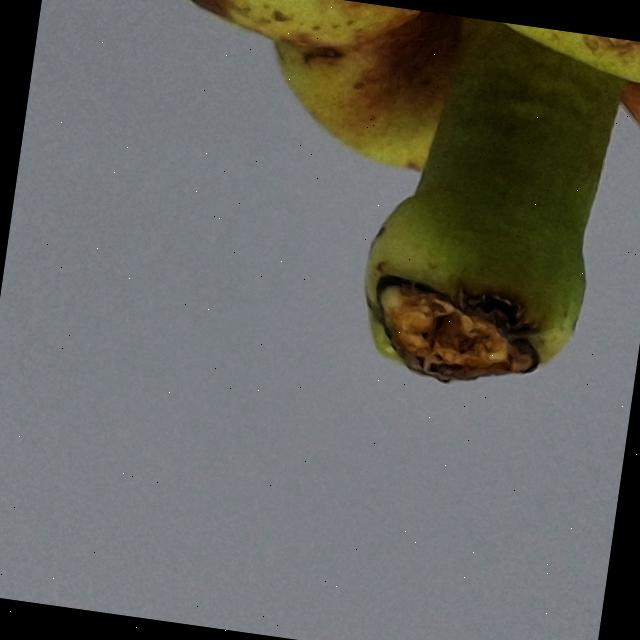mangosteen: (0, 0, 640, 424)
